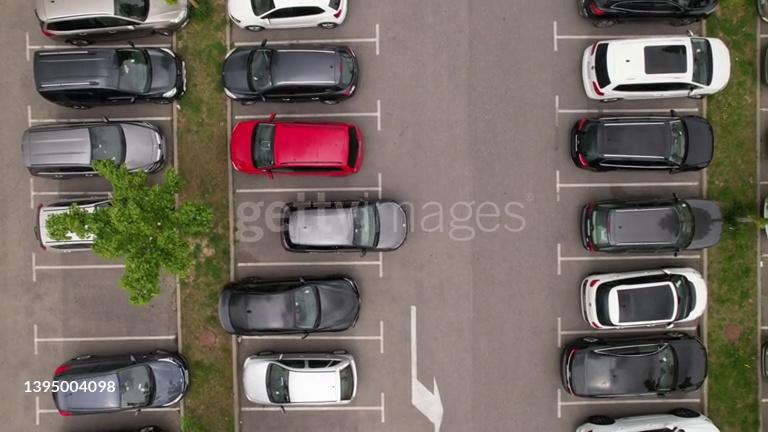car: (584, 35, 726, 100), (565, 335, 704, 396), (50, 353, 185, 414), (224, 44, 358, 103), (218, 276, 358, 332), (573, 114, 713, 170), (24, 121, 166, 176), (580, 266, 705, 328), (233, 119, 362, 176), (34, 195, 150, 250), (243, 351, 357, 405), (37, 0, 186, 41), (586, 198, 695, 253), (281, 206, 412, 249), (33, 48, 120, 105), (228, 1, 344, 30), (576, 410, 720, 431), (583, 0, 712, 21), (677, 198, 723, 248), (116, 48, 151, 94), (757, 275, 767, 374), (756, 8, 767, 79), (757, 196, 766, 239)
